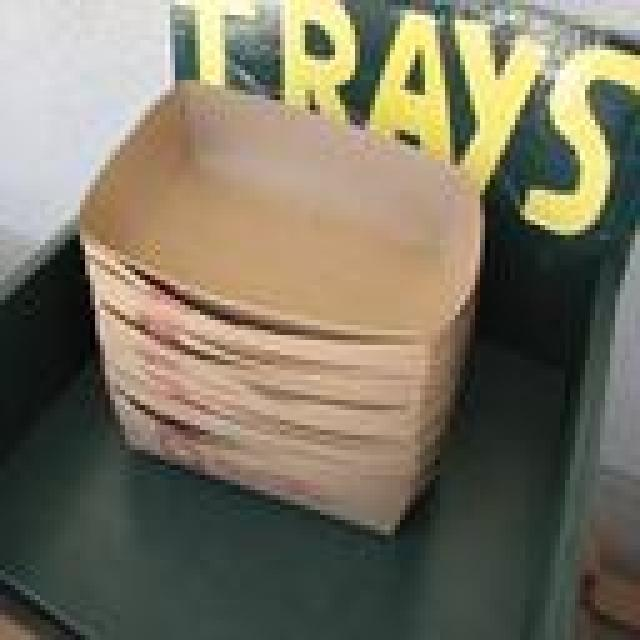Cardboard: (73, 83, 477, 537)
